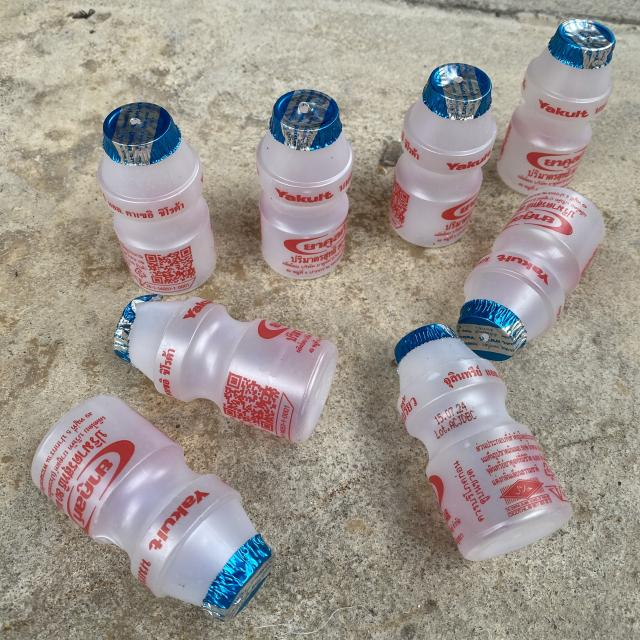Single-Use-Plastic: (31, 395, 272, 620), (395, 324, 572, 560), (115, 295, 338, 442), (458, 188, 605, 361), (98, 102, 216, 295), (498, 19, 615, 195), (389, 62, 496, 248), (256, 90, 354, 279)
